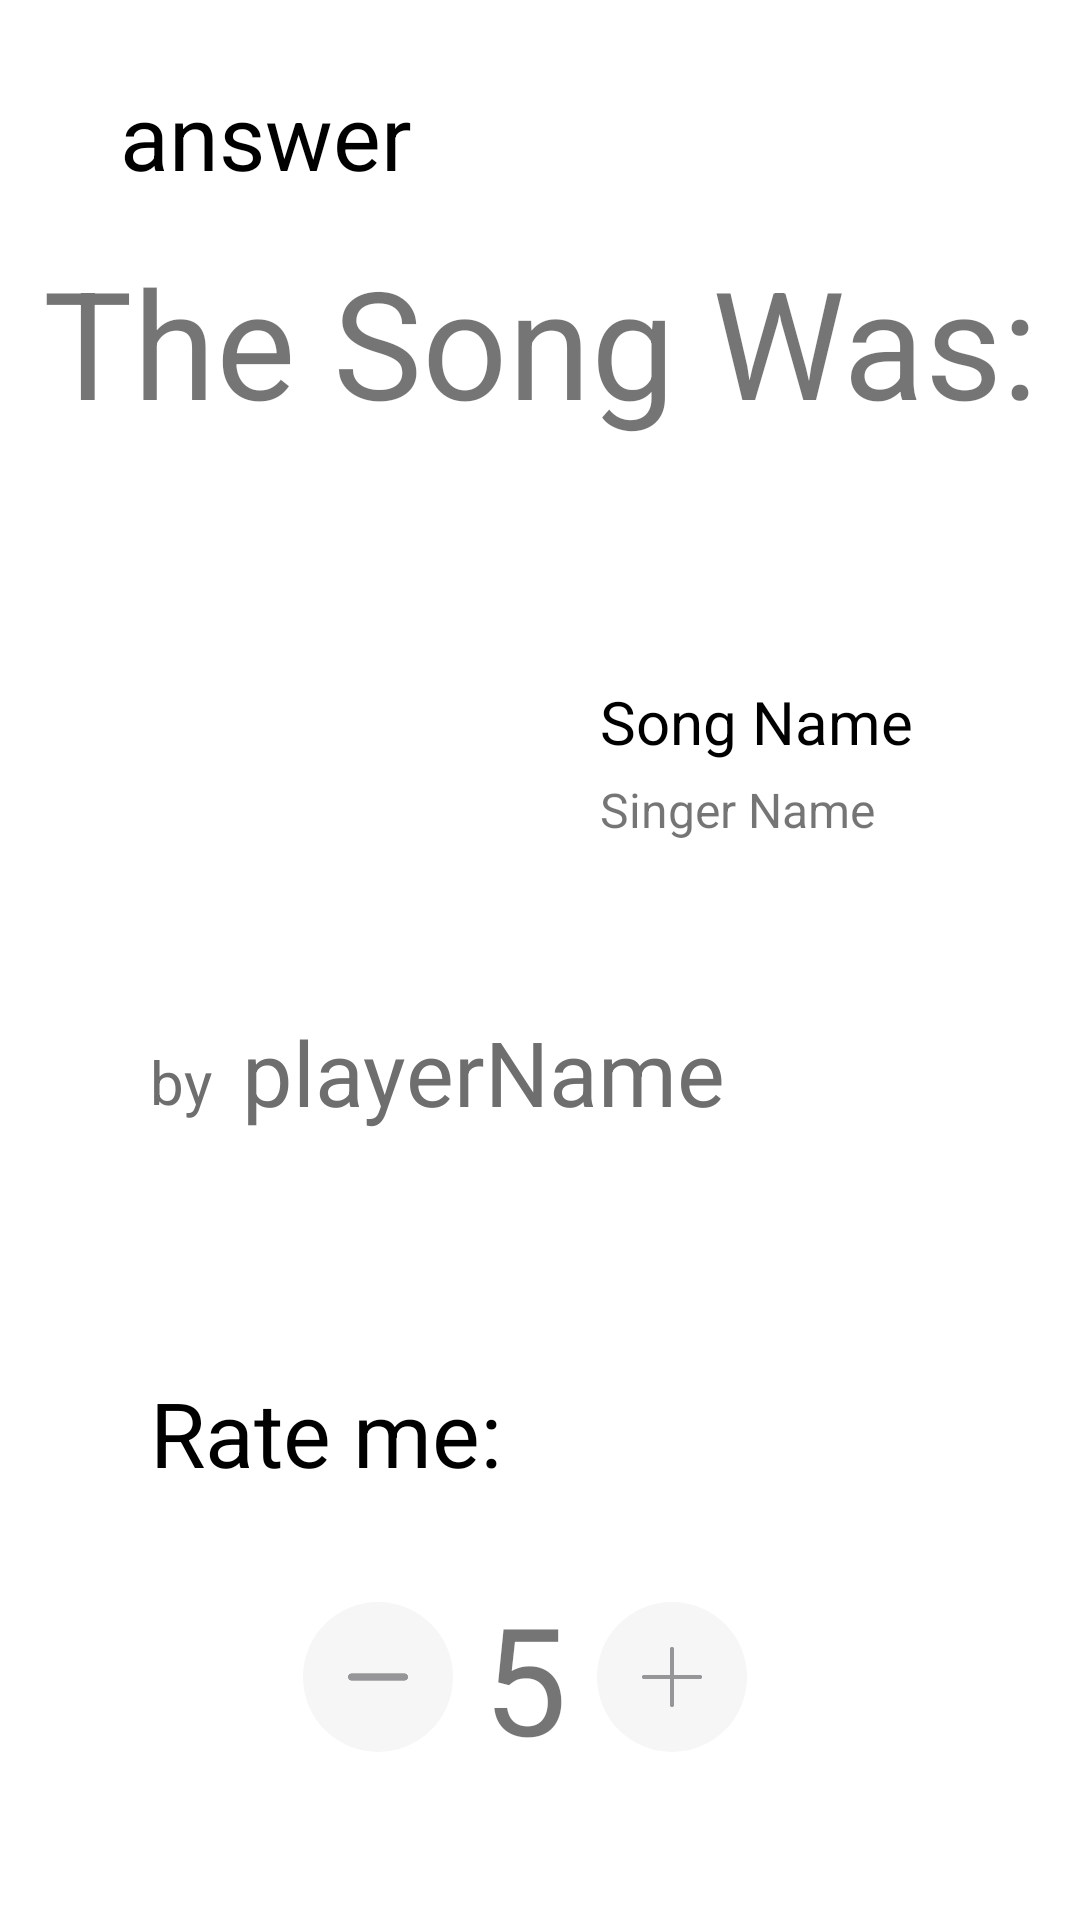

Icons on this 1080 × 1920 Android screen, each with its box as (x1, y1, x2, y2):
plus: (642, 1647, 702, 1707)
